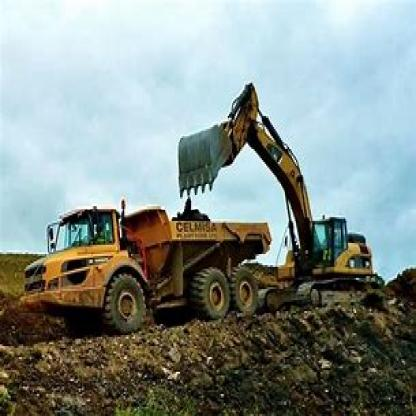dump_truck: (25, 201, 272, 333)
excavator: (183, 87, 387, 322)
